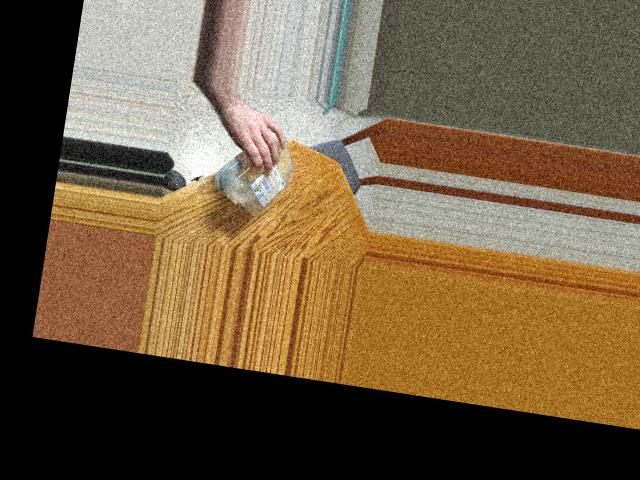cheese: (213, 118, 300, 220)
